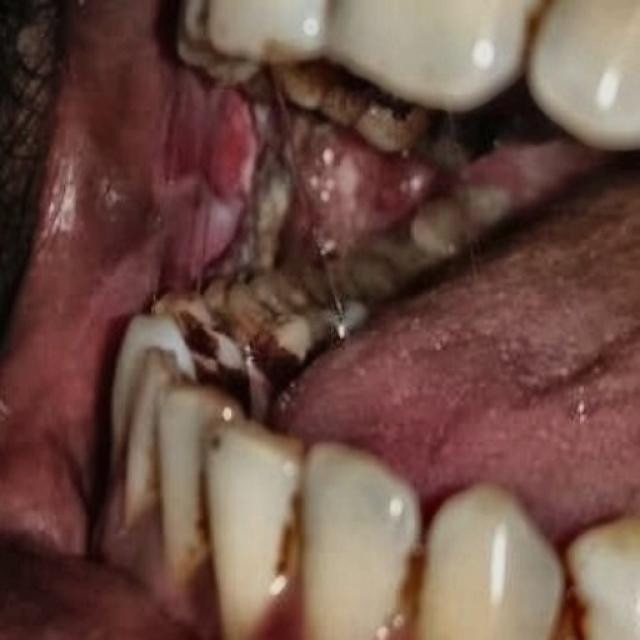cancer-detection: (203, 96, 320, 276)
processing_area: (0, 0, 639, 554)
